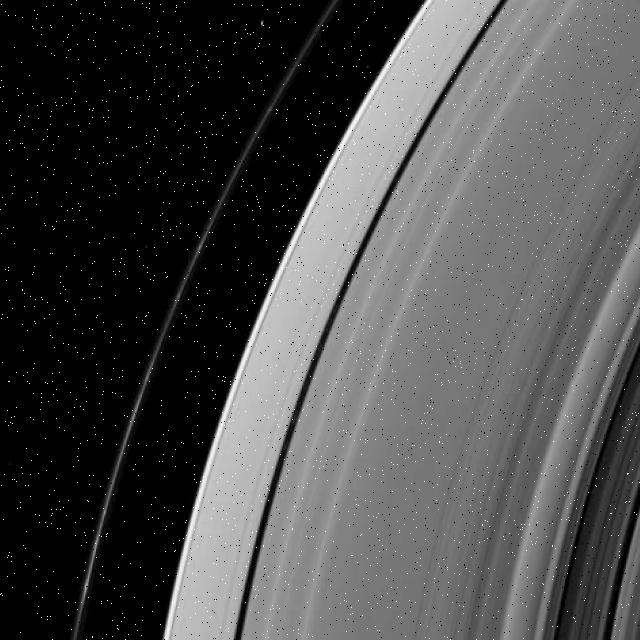Saturn: (65, 0, 640, 640)
